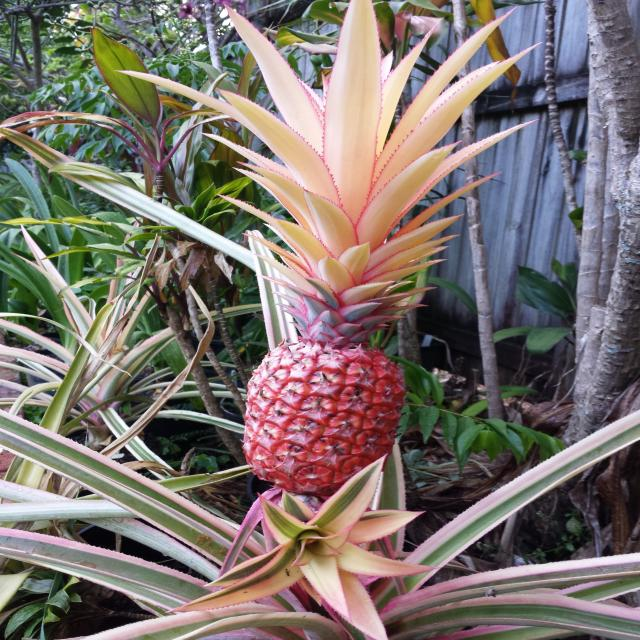Pineapple: (234, 300, 410, 489)
